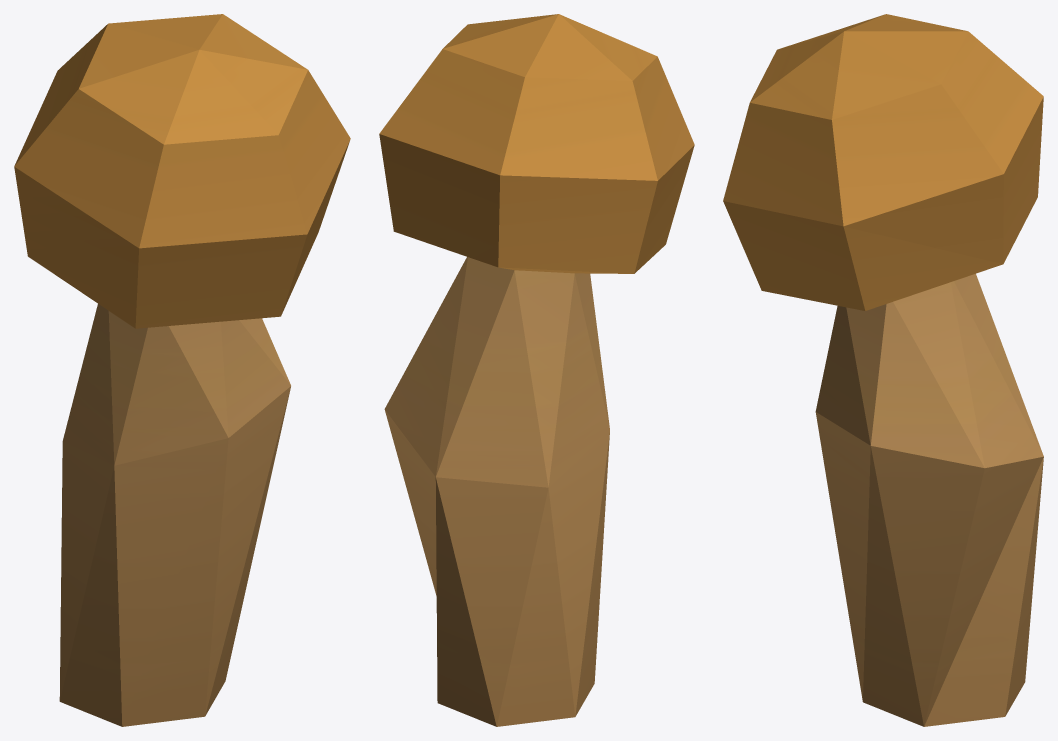
File: mushroom_bolete.glb
3 renders of one model, left to right at view 1: azimuth 30°, elevation 25°; view 2: azimuth 150°, elevation 25°; view 3: azimuth 270°, elevation 25°, orthographic. The views are drawn at different scales.
Visible parts, largest first — view 1: Mushroom 7_1_A; view 2: Mushroom 7_1_A; view 3: Mushroom 7_1_A.
Boxes of the visible parts, x1=… form: Mushroom 7_1_A: x1=14, y1=14, x2=350, y2=726; Mushroom 7_1_A: x1=379, y1=14, x2=694, y2=726; Mushroom 7_1_A: x1=723, y1=14, x2=1043, y2=726.
Size of the model in its own units: 0.1096 by 0.24 by 0.1052.
Materials: 1 (1 with a texture image).
